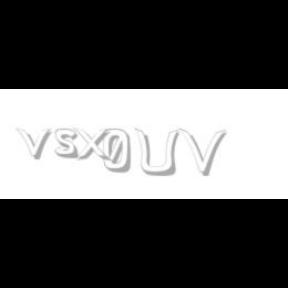0: (104, 128, 134, 174)
U: (134, 128, 178, 178)
V: (179, 128, 227, 176)
s: (55, 128, 83, 160)
v: (15, 128, 55, 160)
x: (73, 128, 115, 162)
